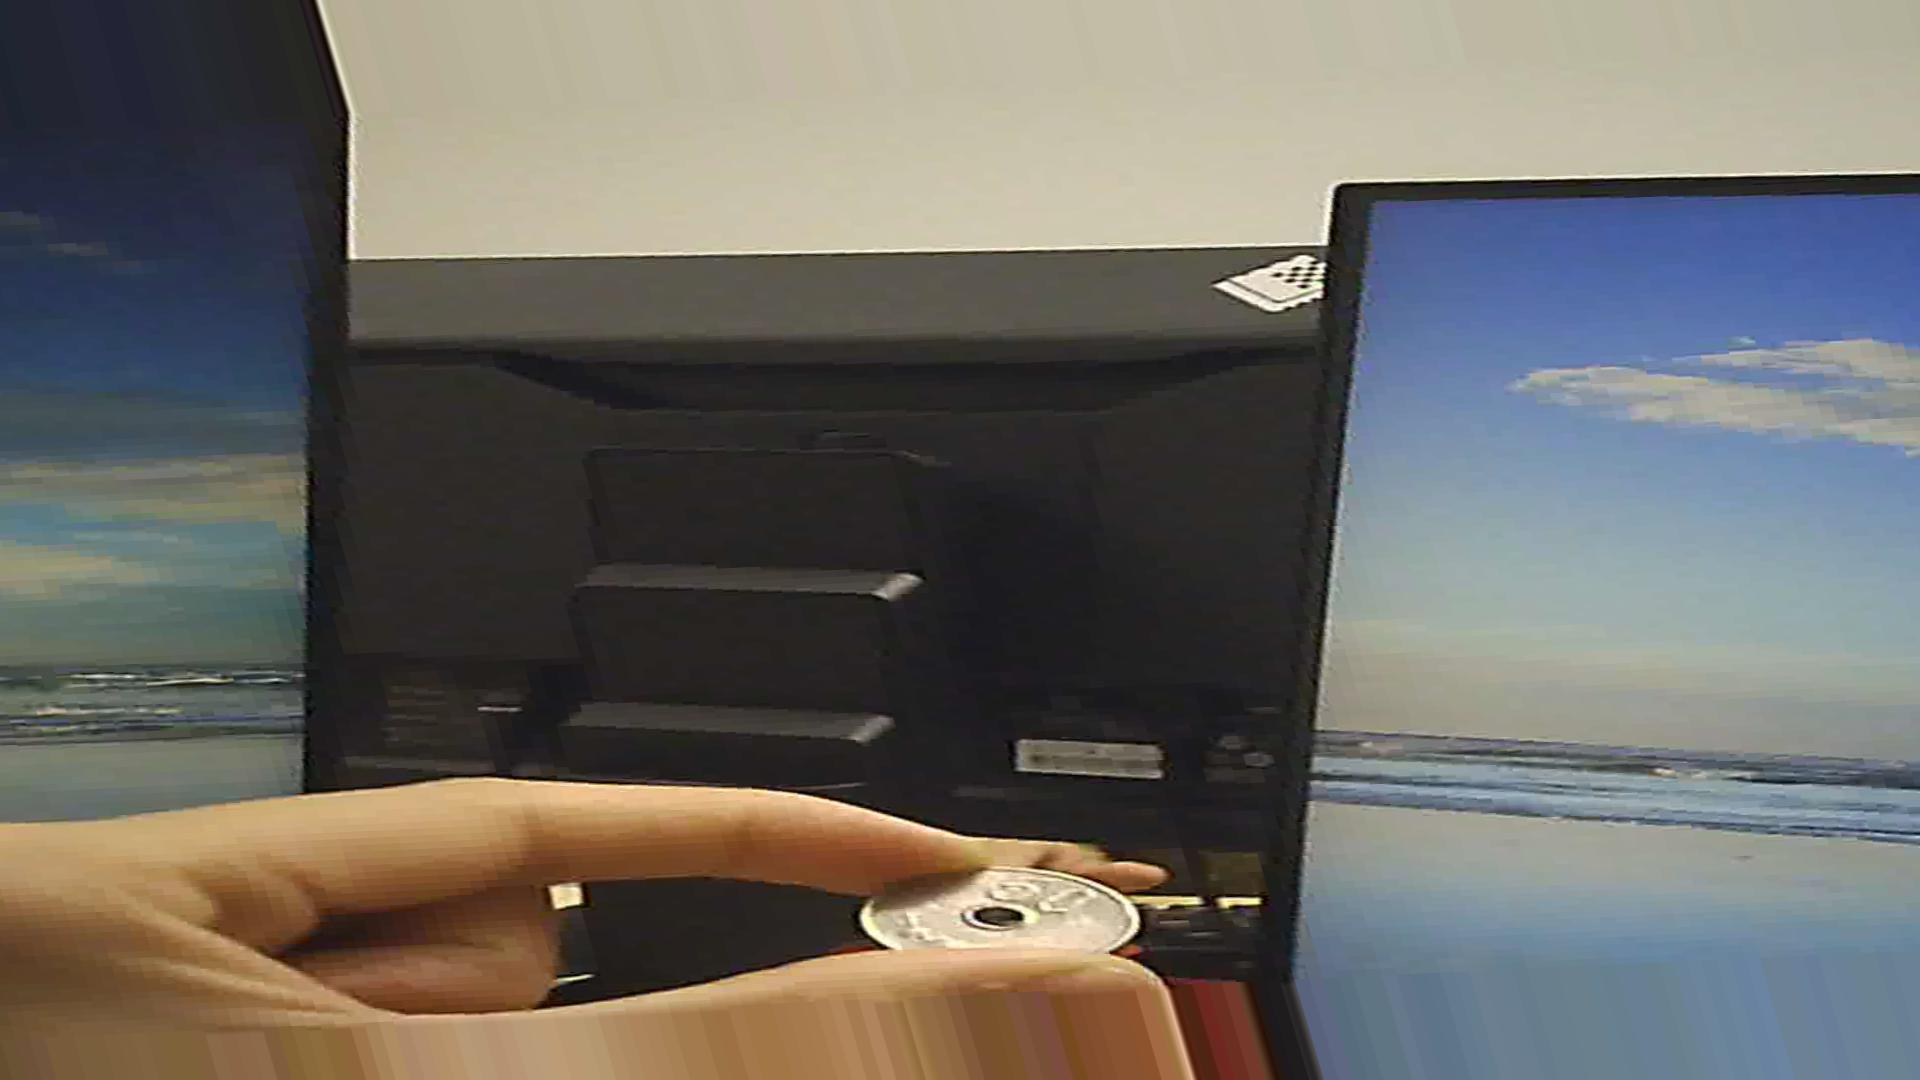50 Yen: (860, 852, 1145, 982)
